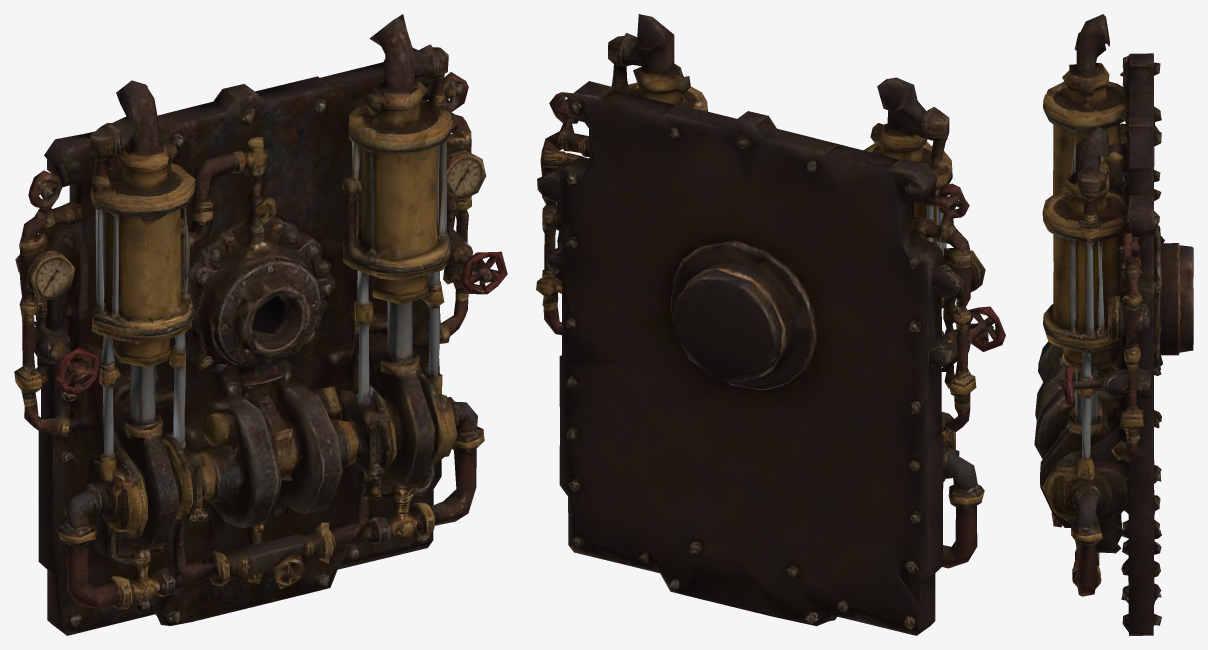
The model's file is pistons.glb.
3 views of the same model, side by side, from view 1: azimuth 30°, elevation 25°; view 2: azimuth 150°, elevation 25°; view 3: azimuth 270°, elevation 25° (orthographic). The views are drawn at different scales.
Visible parts, largest first — view 1: pistons; view 2: pistons; view 3: pistons.
Part boxes in pixels (<box>): pistons: <box>14,14,507,635</box>; pistons: <box>536,14,1005,635</box>; pistons: <box>1034,14,1193,635</box>.
Bounding box in the file's own units: 2.84 × 3.4 × 0.9751.
Materials: 1 (1 with a texture image).
